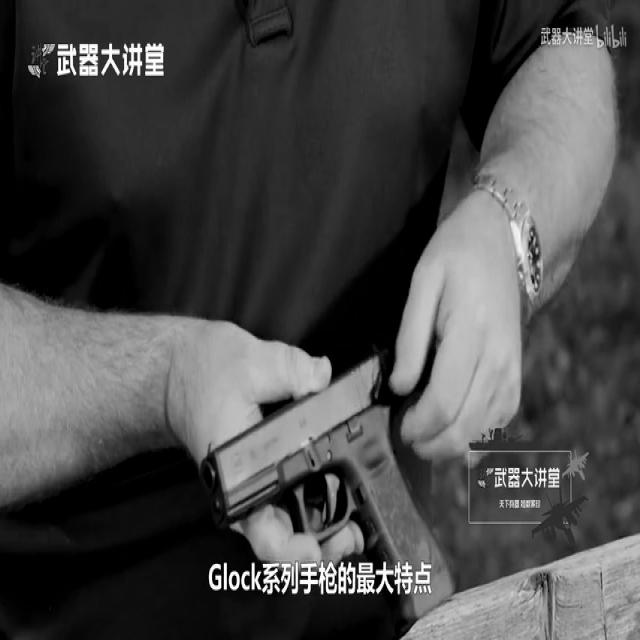Hand-Gun: (163, 282, 510, 640)
